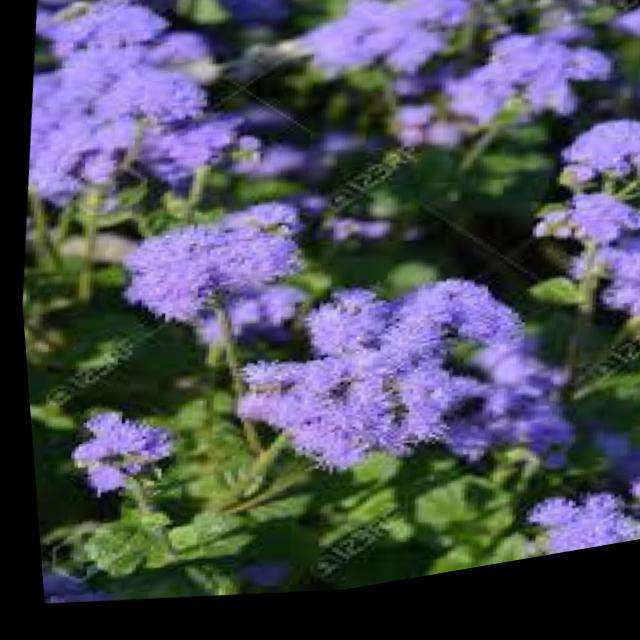Flower: (195, 254, 538, 515), (98, 186, 298, 351), (521, 120, 640, 350), (54, 395, 179, 515), (511, 496, 640, 576)
